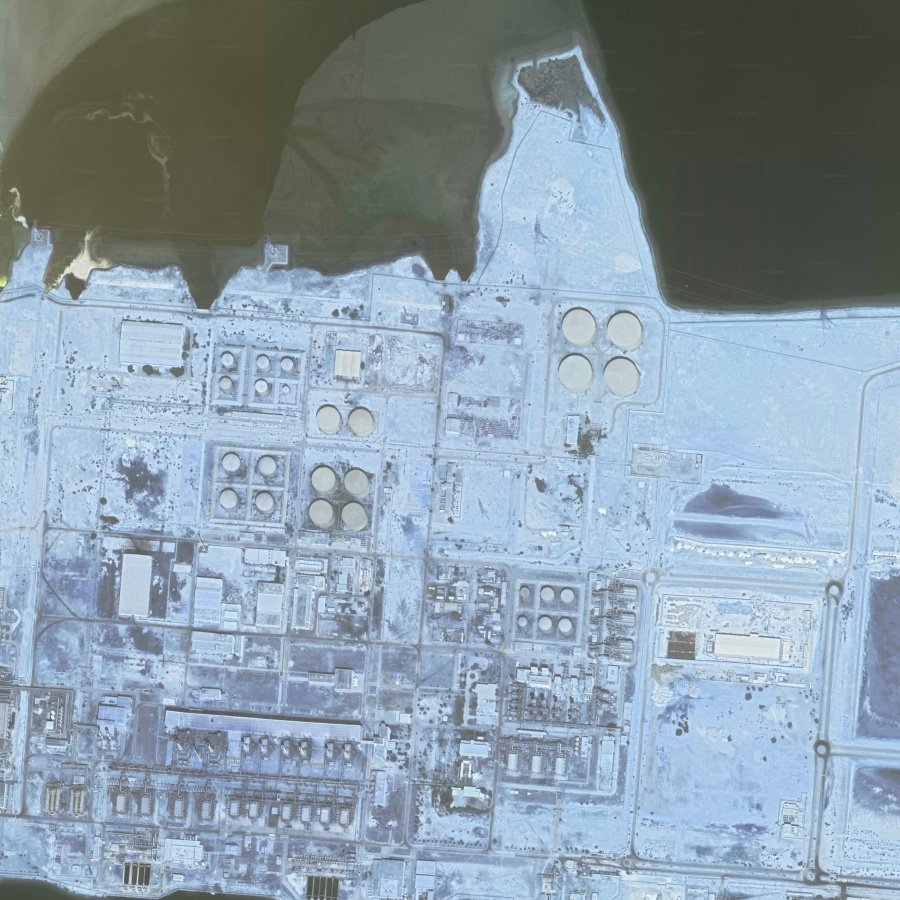PowerPlant: (92, 316, 634, 833)
